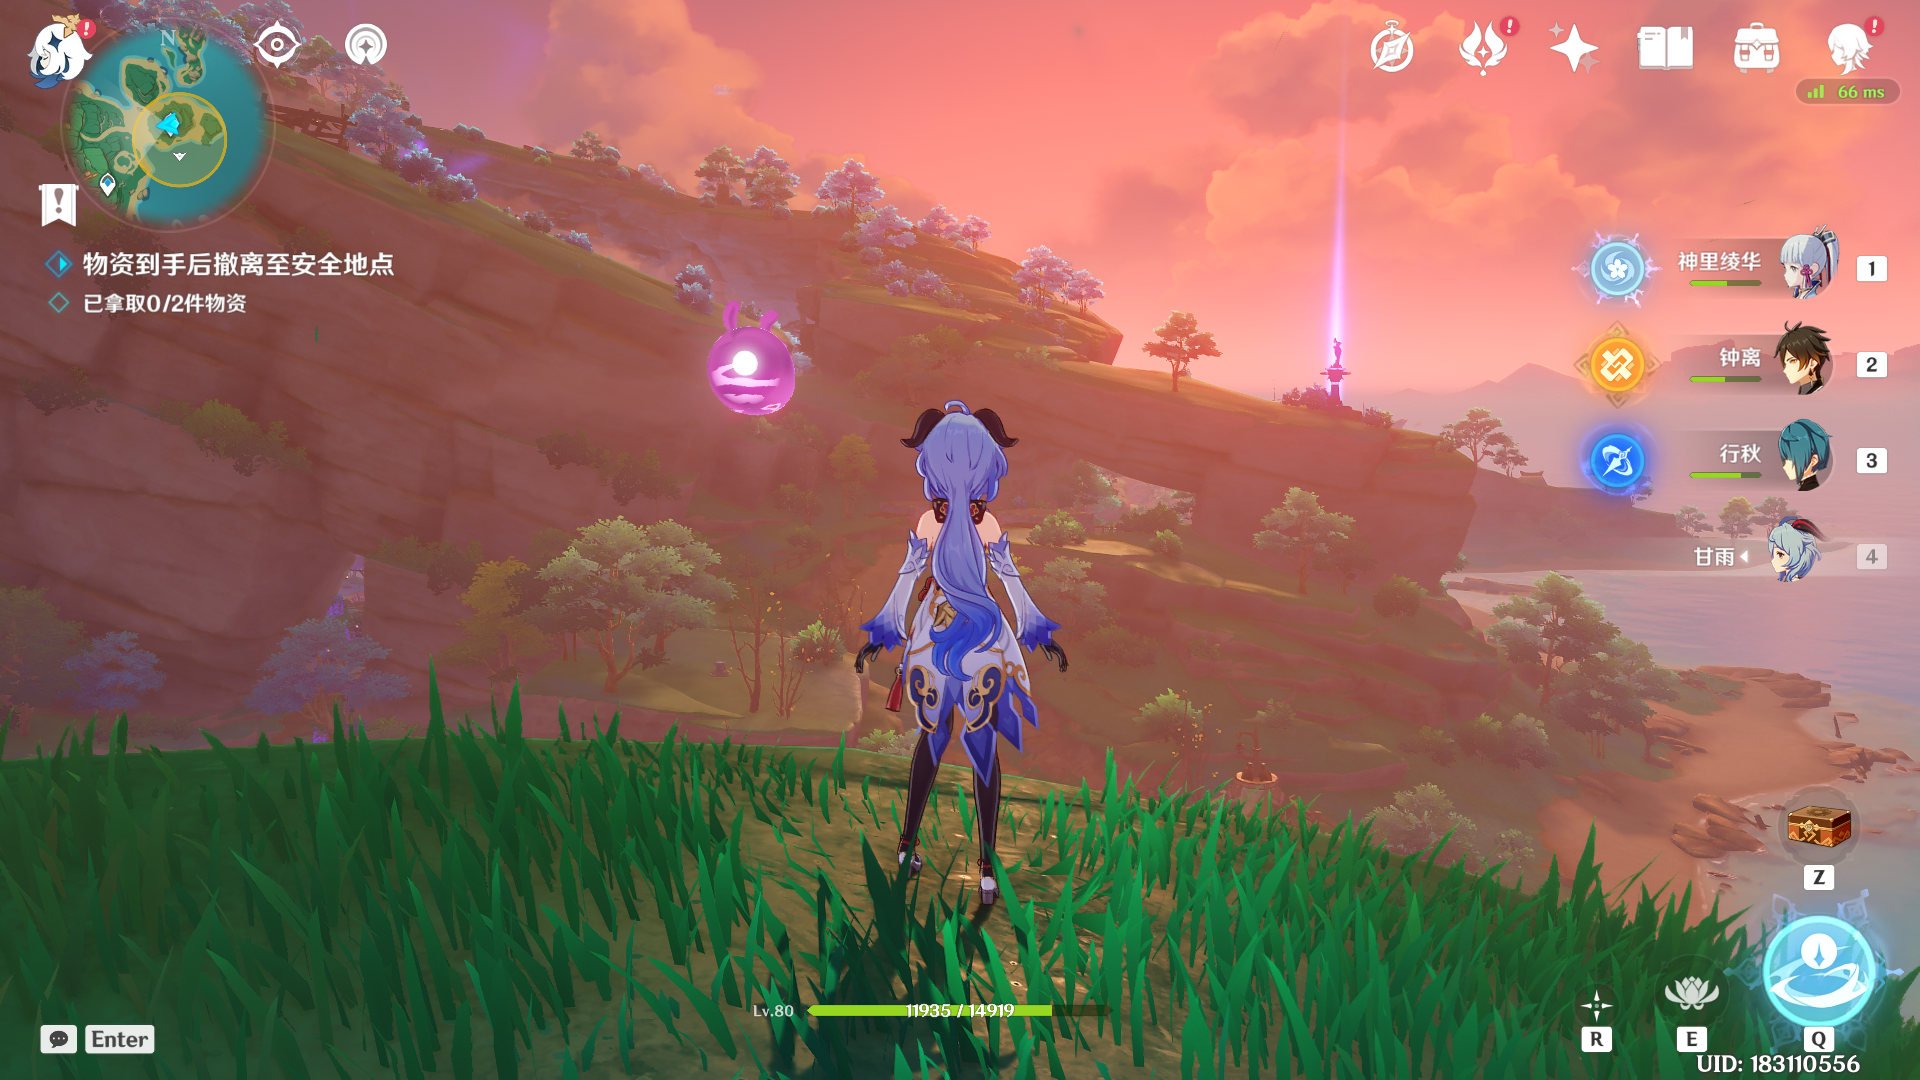character: (827, 373, 1072, 924)
